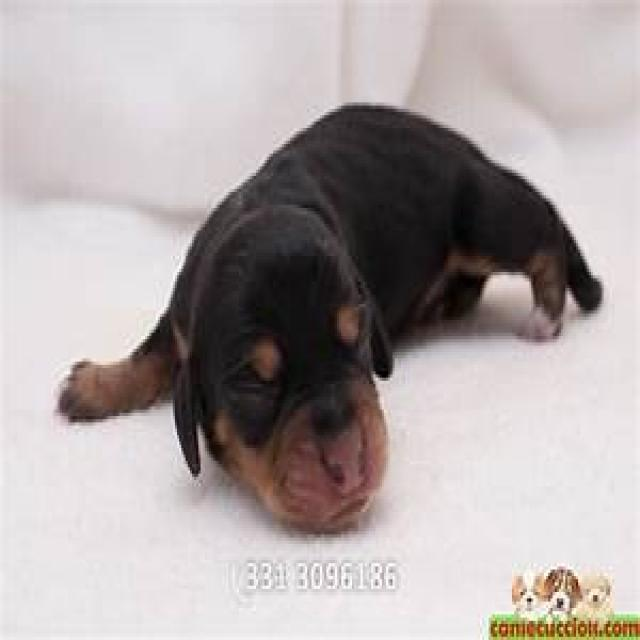dog: (56, 100, 602, 534)
